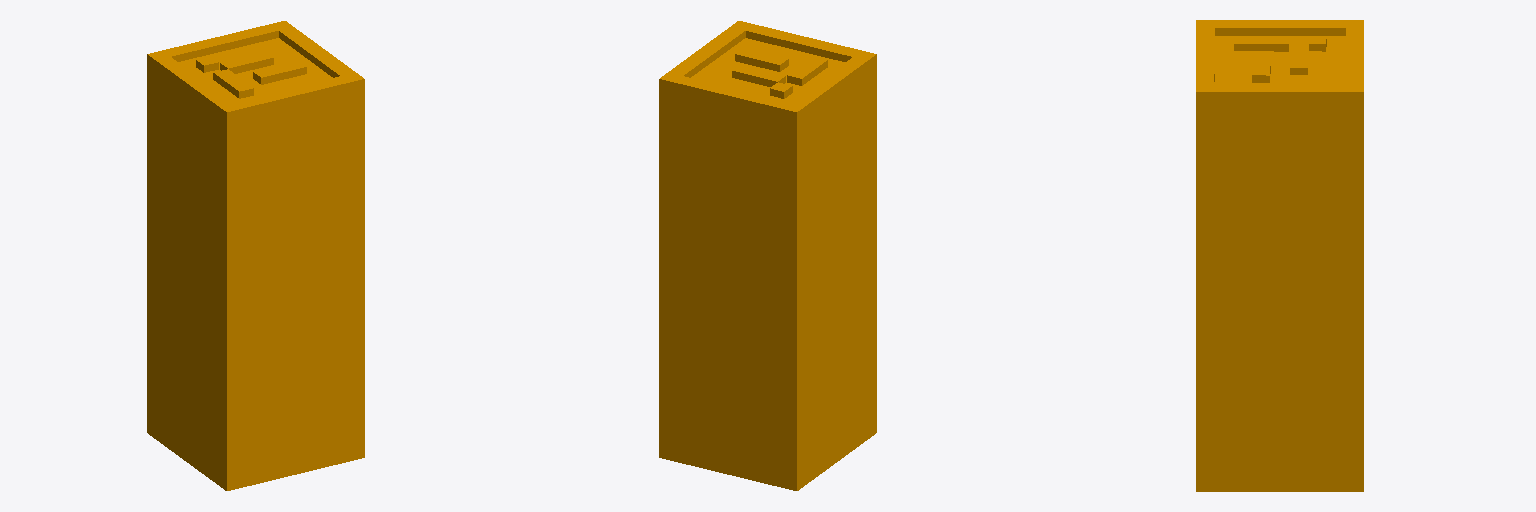
The robot description file, URDF, robot "40x40_Square":
<?xml version="1.0" ?>
<robot name="40x40_Square">

    <link name="40x40_Square">
        <visual>
            <origin rpy="1.5707963267948966 0 0" xyz="0 0 -0.0"/>
            <geometry>
                <mesh filename="Shapes/40x40_square.obj" scale="1.1 1.1 1.1"/>
            </geometry>
        </visual>
        <collision>
            <origin rpy="1.5707963267948966 0 0" xyz="0 0 -0.0"/>
            <geometry>
                <mesh filename="Shapes/40x40_square.obj" scale="1.1 1.1 1.1"/>
            </geometry>
        </collision>
        <inertial>
            <mass value="0.3"/>
            <inertia ixx="0.000029435425" ixy="0.0" ixz="0.0" iyy="0.000029435425" iyz="0.0" izz="0.00000725805"/>
        </inertial>
    </link>

</robot>

--- What the picture shows (computed from the rendered views, not written in the file) ---
The picture shows the robot from 3 angles, left to right: view 1: azimuth 30°, elevation 25°; view 2: azimuth 150°, elevation 25°; view 3: azimuth 270°, elevation 25°; orthographic projection.
Robot: 40x40_Square — 1 links, 0 joints (none); root link 40x40_Square; default pose: every joint at zero.
Links seen in each view (by area): view 1: 40x40_Square; view 2: 40x40_Square; view 3: 40x40_Square.
Boxes of the visible links, left/top/right/bottom form: 40x40_Square: left=147, top=21, right=364, bottom=490; 40x40_Square: left=659, top=21, right=876, bottom=490; 40x40_Square: left=1196, top=20, right=1363, bottom=491.
Size in the robot's own frame: 0.044 by 0.044 by 0.1155 metres.
1 mesh visuals loaded from 1 distinct referenced files (1 OBJ).
